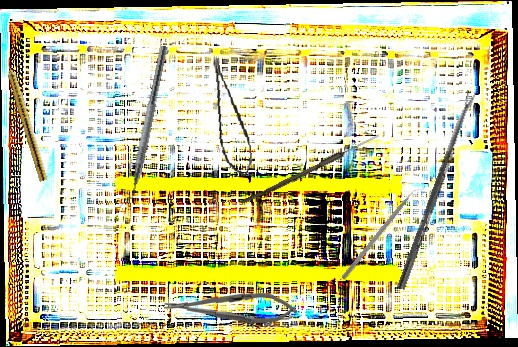Chopper: (340, 182, 427, 285), (117, 43, 169, 210)
Handpiece: (2, 57, 51, 182)
Micro Scissor: (209, 55, 256, 180)
Needle Holder: (163, 288, 298, 326)
Surgical Spoon: (396, 92, 477, 291), (240, 131, 381, 208)
